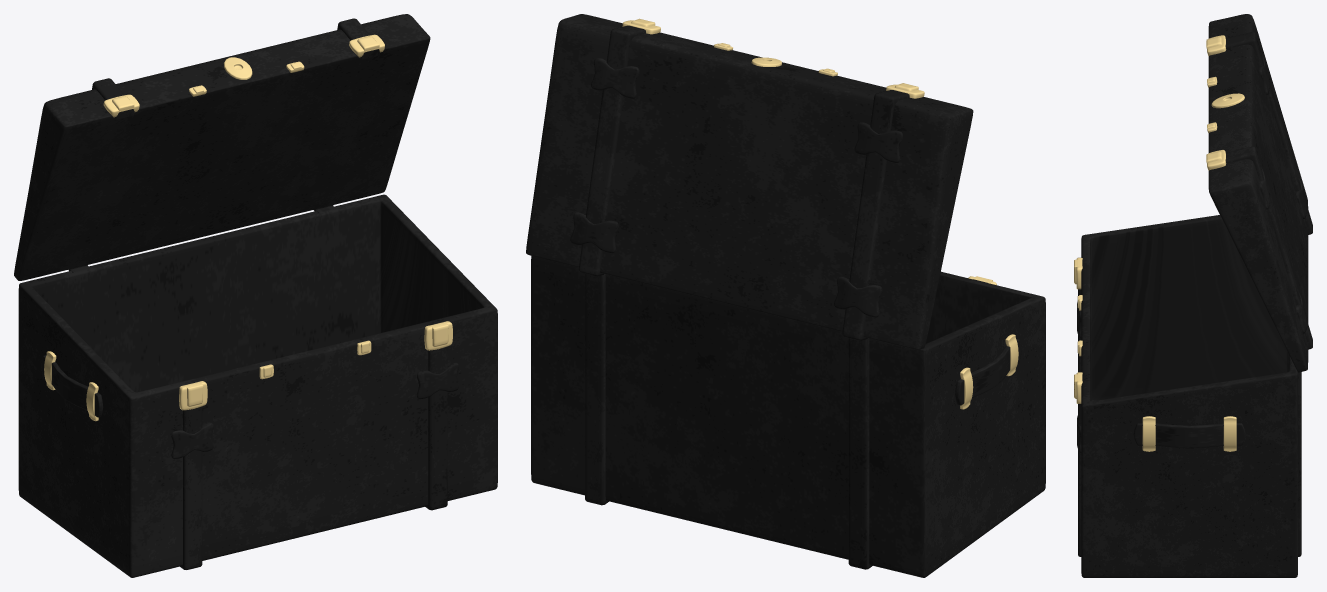
Rendered from trunkTrunk_open.glb.
The picture shows the model from 3 angles, left to right: view 1: azimuth 30°, elevation 25°; view 2: azimuth 150°, elevation 25°; view 3: azimuth 270°, elevation 25°; orthographic projection. The views are drawn at different scales.
Visible parts, largest first — view 1: trunkTrunk_open trunk trunk_grp, lid lid_grp trunkTrunk_open, trunkTrunk_open trunk_grp belt_L_B, trunkTrunk_open trunk_grp belt_R_B, trunkTrunk_open trunk_grp handle_R, trunkTrunk_open trunk_grp strap_R_F, trunkTrunk_open trunk_grp strap_L_F; view 2: trunkTrunk_open trunk trunk_grp, lid lid_grp trunkTrunk_open, trunkTrunk_open trunk_grp belt_R_B, trunkTrunk_open trunk_grp belt_L_B, lid_grp trunkTrunk_open belt_R, lid_grp trunkTrunk_open belt_L, trunkTrunk_open trunk_grp handle_R, lid_grp trunkTrunk_open strap_R_B, lid_grp trunkTrunk_open strap_L_B, lid_grp trunkTrunk_open strap_R_F, lid_grp trunkTrunk_open strap_L_F; view 3: trunkTrunk_open trunk trunk_grp, lid lid_grp trunkTrunk_open, trunkTrunk_open trunk_grp handle_L, lid_grp trunkTrunk_open belt_L, lid_grp trunkTrunk_open belt_R, trunkTrunk_open trunk_grp belt_L_B, trunkTrunk_open trunk_grp handle_L_strap_B, trunkTrunk_open trunk_grp handle_L_strap_F, lid_grp trunkTrunk_open lock.
Part boxes in pixels (x1,y1,x2,y2): trunkTrunk_open trunk trunk_grp: (18,194,497,577); lid lid_grp trunkTrunk_open: (14,14,430,280); trunkTrunk_open trunk_grp belt_L_B: (314,205,447,510); trunkTrunk_open trunk_grp belt_R_B: (69,265,202,569); trunkTrunk_open trunk_grp handle_R: (41,355,103,417); trunkTrunk_open trunk_grp strap_R_F: (171,422,213,458); trunkTrunk_open trunk_grp strap_L_F: (417,362,458,399); trunkTrunk_open trunk trunk_grp: (531,256,1045,577); lid lid_grp trunkTrunk_open: (526,14,973,349); trunkTrunk_open trunk_grp belt_R_B: (848,279,987,569); trunkTrunk_open trunk_grp belt_L_B: (585,274,608,505); lid_grp trunkTrunk_open belt_R: (842,90,909,340); lid_grp trunkTrunk_open belt_L: (578,25,645,276); trunkTrunk_open trunk_grp handle_R: (955,338,1021,405); lid_grp trunkTrunk_open strap_R_B: (834,276,882,317); lid_grp trunkTrunk_open strap_L_B: (570,212,618,253); lid_grp trunkTrunk_open strap_R_F: (854,122,902,163); lid_grp trunkTrunk_open strap_L_F: (591,57,639,98); trunkTrunk_open trunk trunk_grp: (1081,215,1297,577); lid lid_grp trunkTrunk_open: (1208,14,1308,372); trunkTrunk_open trunk_grp handle_L: (1133,423,1245,448); lid_grp trunkTrunk_open belt_L: (1225,146,1312,349); lid_grp trunkTrunk_open belt_R: (1225,32,1312,234); trunkTrunk_open trunk_grp belt_L_B: (1078,372,1301,556); trunkTrunk_open trunk_grp handle_L_strap_B: (1223,416,1236,451); trunkTrunk_open trunk_grp handle_L_strap_F: (1142,416,1155,451); lid_grp trunkTrunk_open lock: (1211,93,1244,108).
Size of the model in its own units: 0.0634 by 0.0657 by 0.0352.
Materials: 1 (1 with a texture image).
